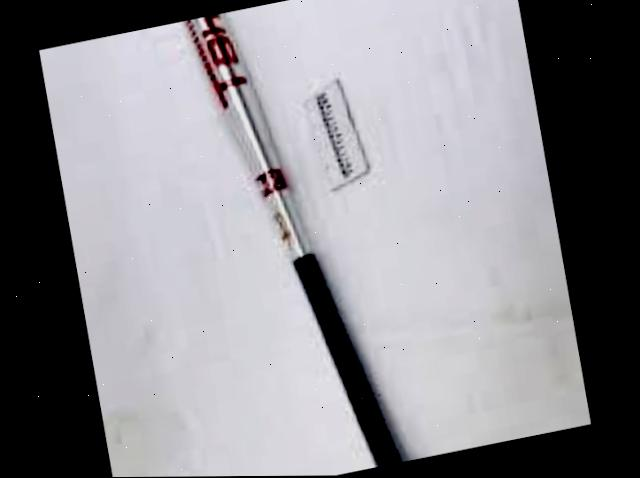baseball bat: (173, 14, 419, 470)
